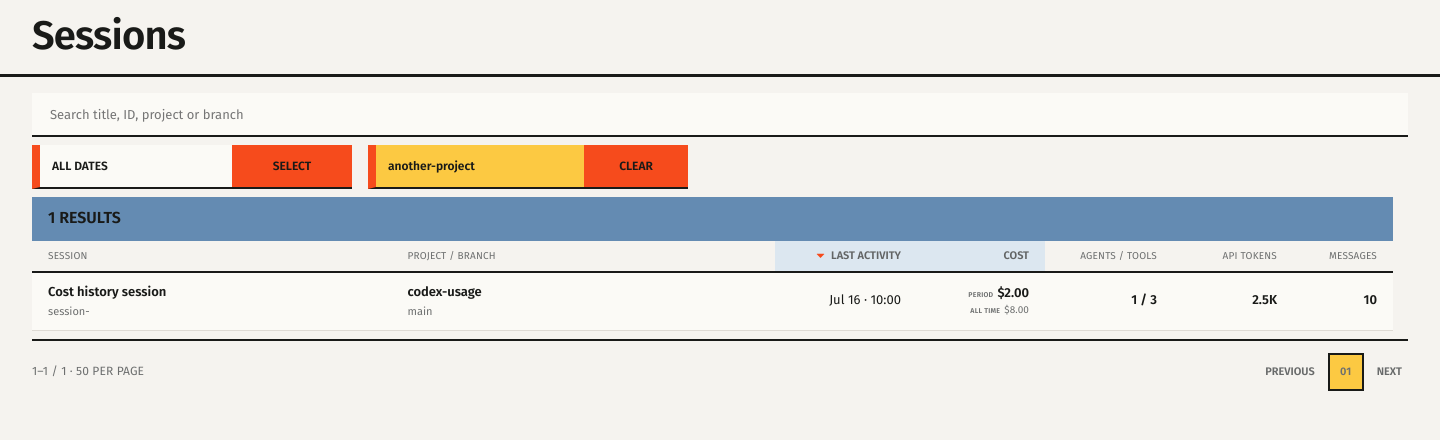
SessionsPage cost history › does not mutate the project collection returned by the API
Expected: the link named "Cost history session" is shown, [34,275,1391,328]
Click the button "another-project".
click(528, 167)  # box [368,145,688,189]
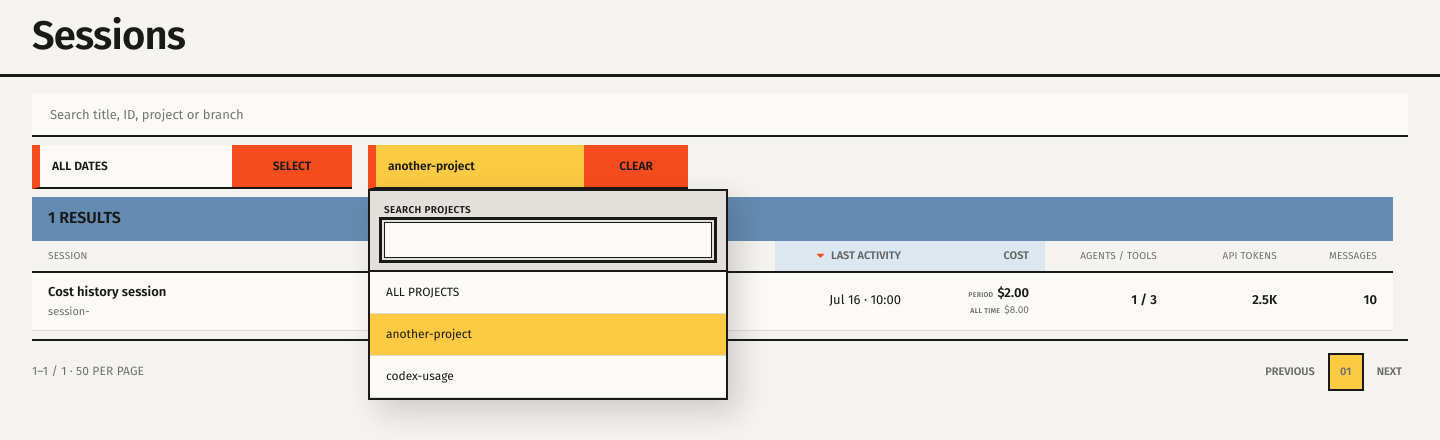
Expected: the option "codex-usage" is shown, [370,356,726,398]
Expected: the option "another-project" is shown, [370,314,726,356]
